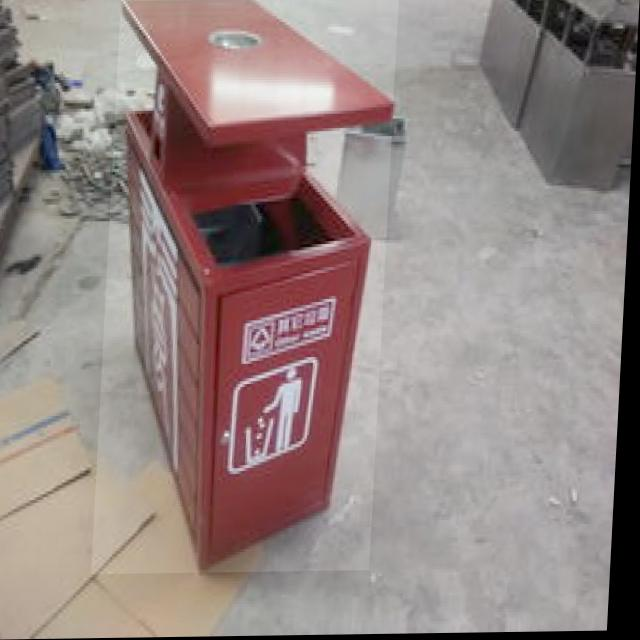garbage_bin: (98, 0, 399, 575)
